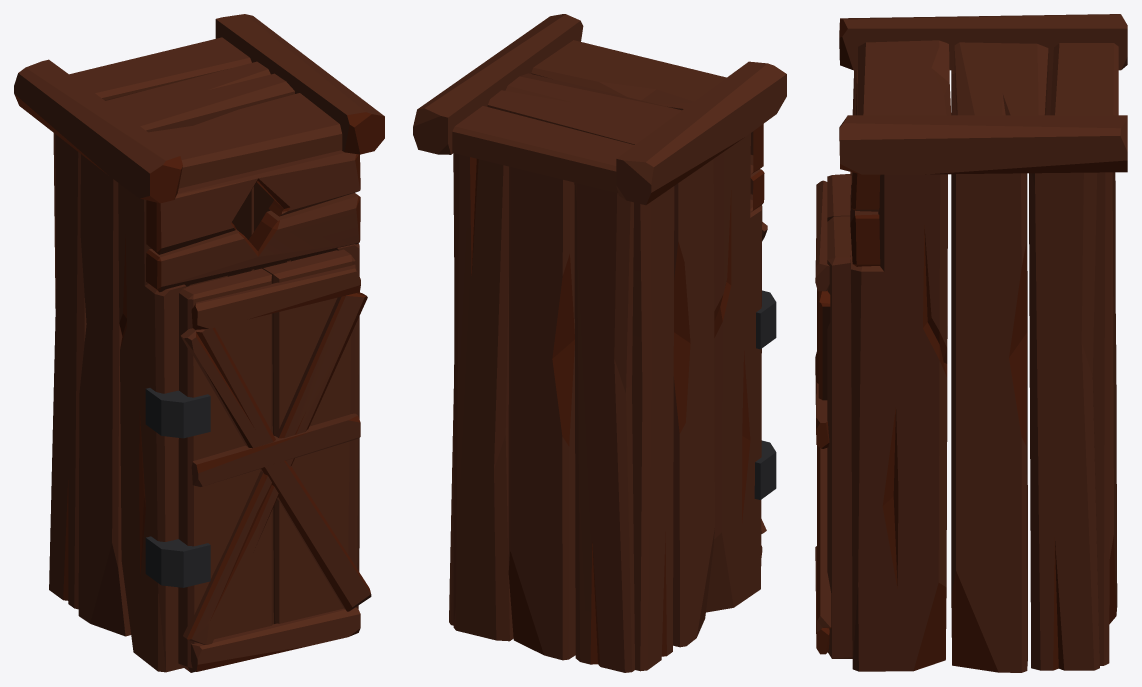
Rendered from Privy.fbx.
The picture shows the model from 3 angles, left to right: view 1: azimuth 30°, elevation 25°; view 2: azimuth 150°, elevation 25°; view 3: azimuth 270°, elevation 25°; orthographic projection. The views are drawn at different scales.
Visible parts, largest first — view 1: Privy; view 2: Privy; view 3: Privy.
Part boxes in pixels (x1,y1,x2,y2): Privy: (14,14,384,672); Privy: (413,14,786,672); Privy: (815,14,1127,672).
Size of the model in its own units: 33.93 by 70.82 by 36.52.
